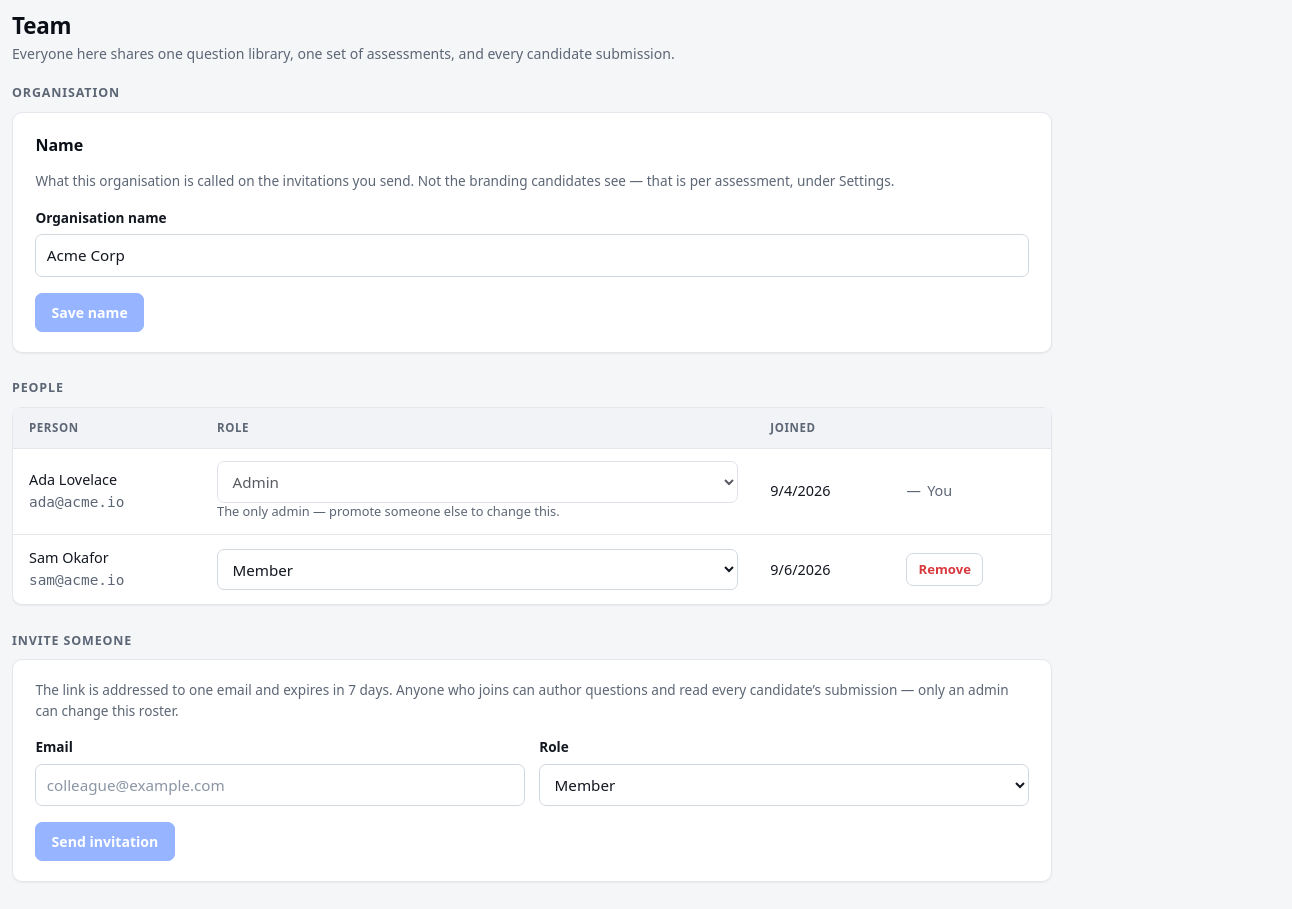
Scenario: TeamPage › says so when the invitation could not be emailed
The image size is (1292, 909).
Check: the text "Sam Okafor" is shown, box [29,547,109,569]
Type "priya@acme.io" into the field labelled "Email" at (280, 785), box [35,764,525,806]
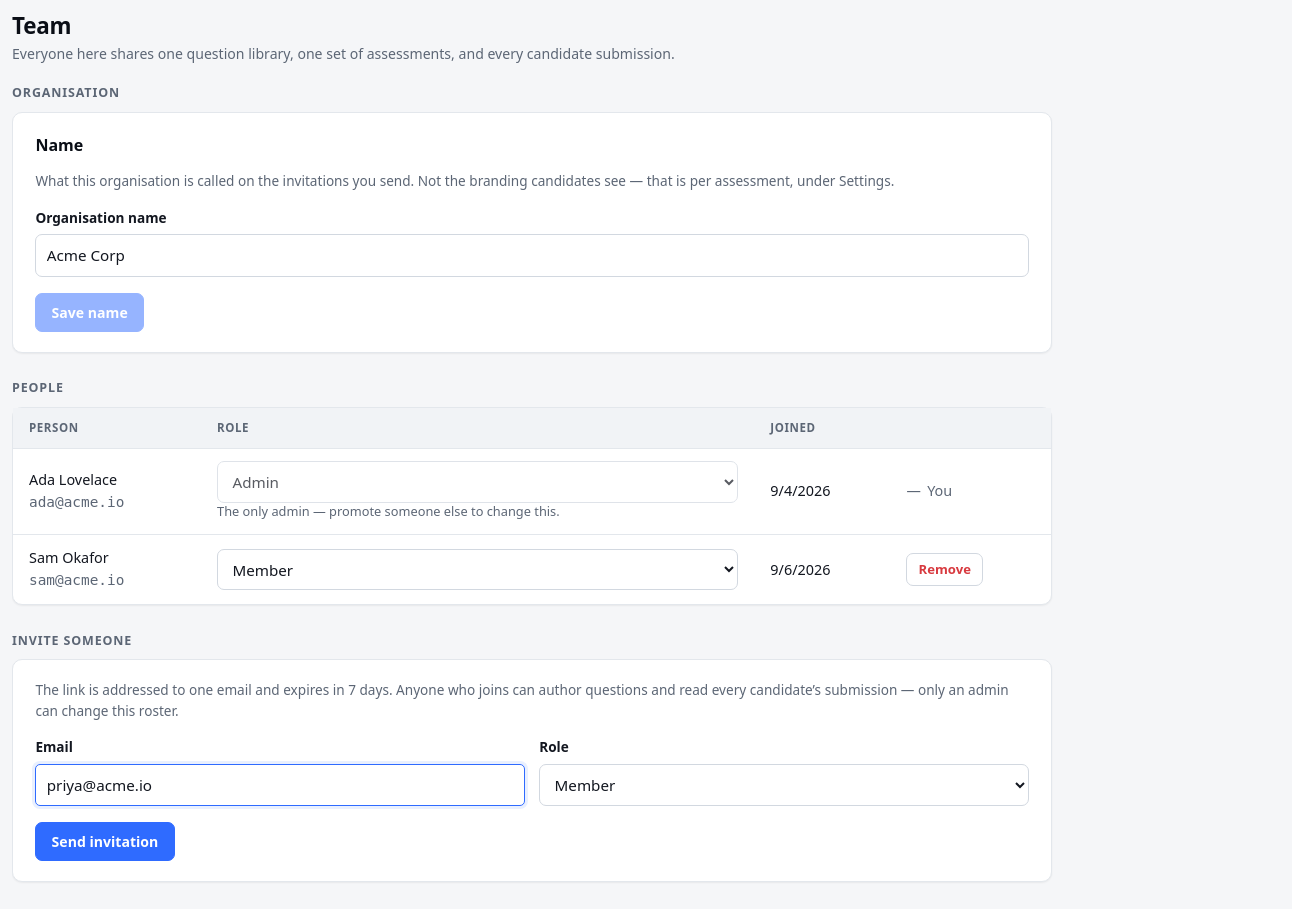
Click the button "Send invitation" at (105, 842), box [35,822,174,861]
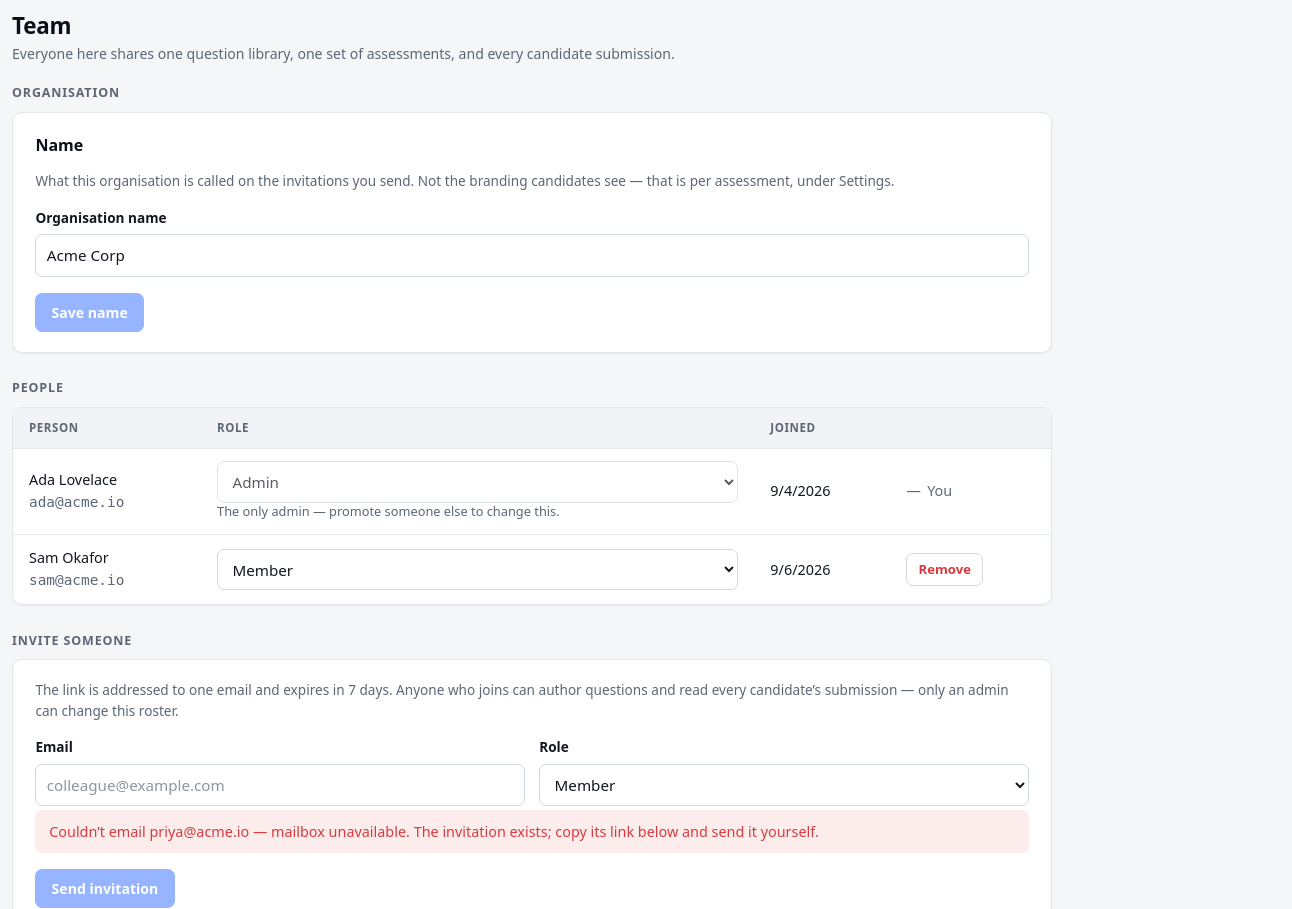
Check: the text "Couldn’t email priya@acme.io" shows "mailbox unavailable", box [249,822,406,841]
Check: the text "Couldn’t email priya@acme.io" shows "copy its link below", box [406,822,819,841]
